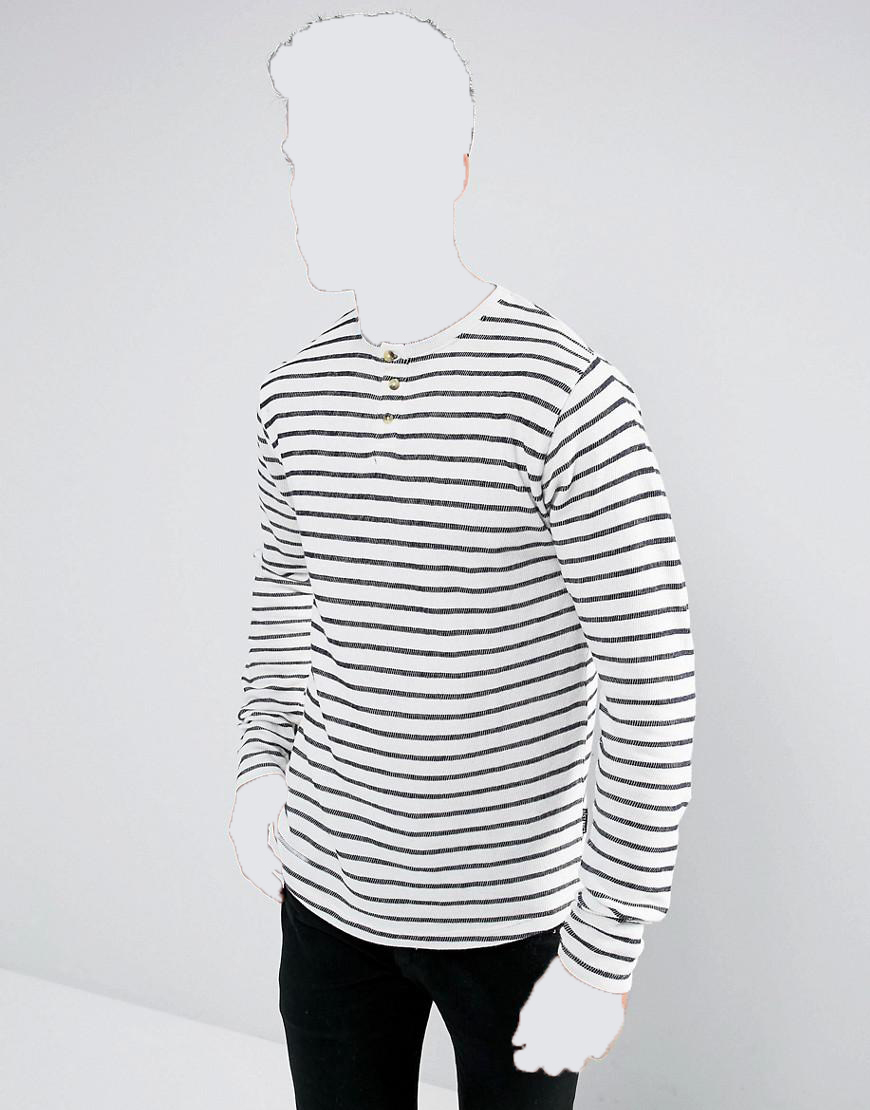teeshirt: (227, 278, 703, 1001)
